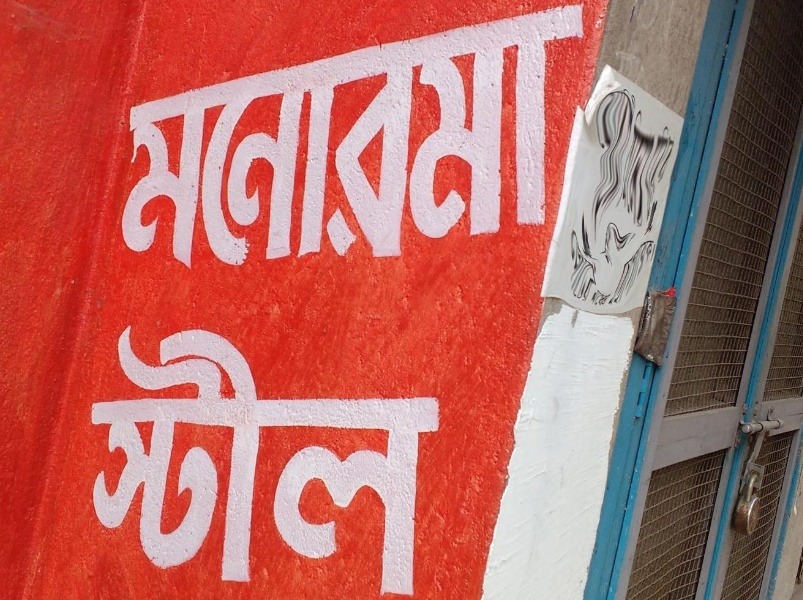text: (129, 1, 144, 280), (145, 1, 160, 280), (161, 1, 176, 280), (177, 1, 192, 280), (193, 1, 208, 280), (209, 1, 224, 280), (225, 1, 240, 280), (241, 1, 256, 280), (257, 1, 272, 280), (273, 1, 288, 280), (289, 1, 304, 280), (305, 1, 320, 280), (321, 1, 336, 280), (337, 1, 352, 280), (353, 1, 368, 280), (369, 1, 384, 280), (385, 1, 400, 280), (401, 1, 416, 280), (417, 1, 432, 280), (433, 1, 448, 280), (449, 1, 464, 280), (465, 1, 480, 280), (481, 1, 496, 280), (497, 1, 512, 280), (513, 1, 528, 280), (529, 1, 544, 280), (545, 1, 560, 280), (561, 1, 576, 280), (113, 321, 128, 599), (129, 321, 144, 599), (145, 321, 160, 599), (161, 321, 176, 599), (177, 321, 192, 599), (193, 321, 208, 599), (209, 321, 224, 599), (225, 321, 240, 599), (241, 321, 256, 599), (257, 321, 272, 599), (273, 321, 288, 599), (289, 321, 304, 599), (305, 321, 320, 599), (321, 321, 336, 599), (337, 321, 352, 599), (353, 321, 368, 599), (369, 321, 384, 599), (385, 321, 400, 599), (401, 321, 416, 599), (417, 321, 432, 599), (100, 321, 112, 599), (433, 321, 442, 599), (577, 1, 585, 280), (122, 1, 128, 280)
